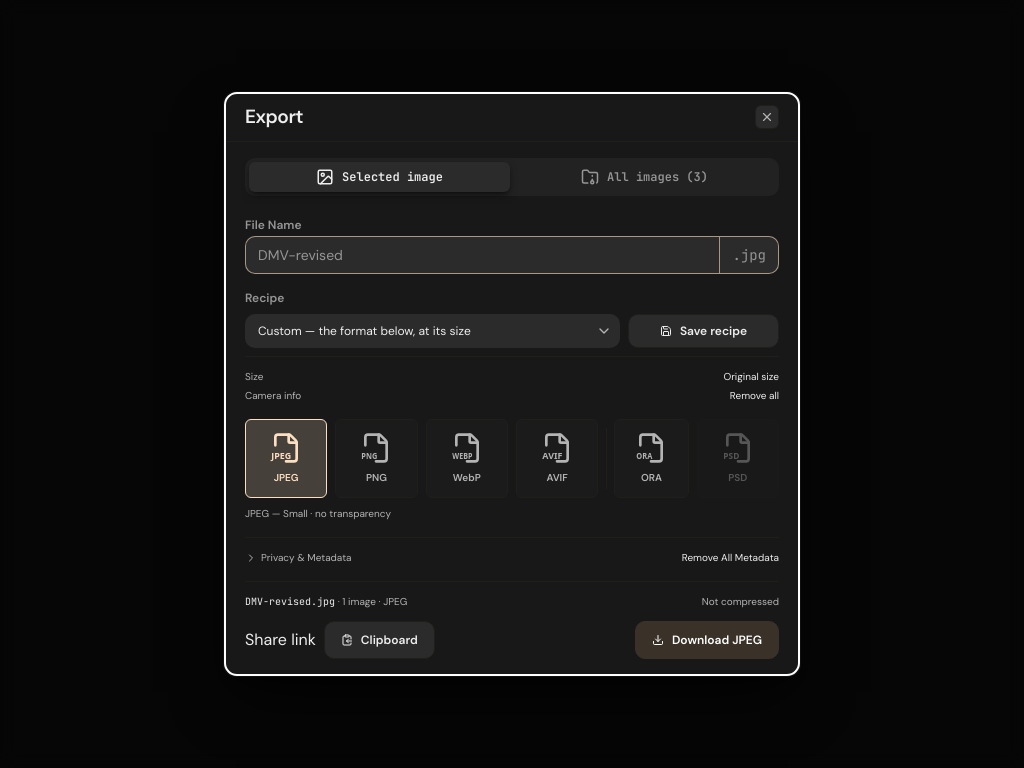
Test case: Privacy & Metadata is shut, with its choice on the right, and opens to Camera Info
Click the button "Privacy & Metadata Remove All Metadata": (306, 558) left=245, top=550, right=779, bottom=565
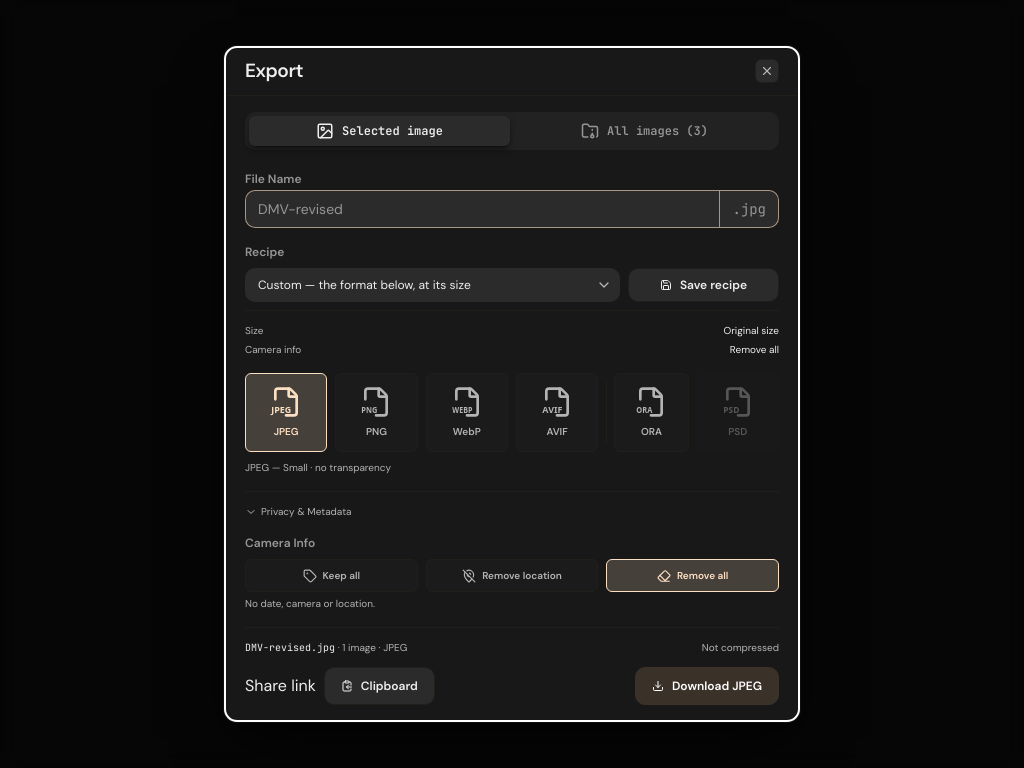
Expected: the button "Privacy & Metadata" is expanded, left=245, top=504, right=779, bottom=519
Expected: the element named "Camera Info" is shown, left=245, top=559, right=779, bottom=592
